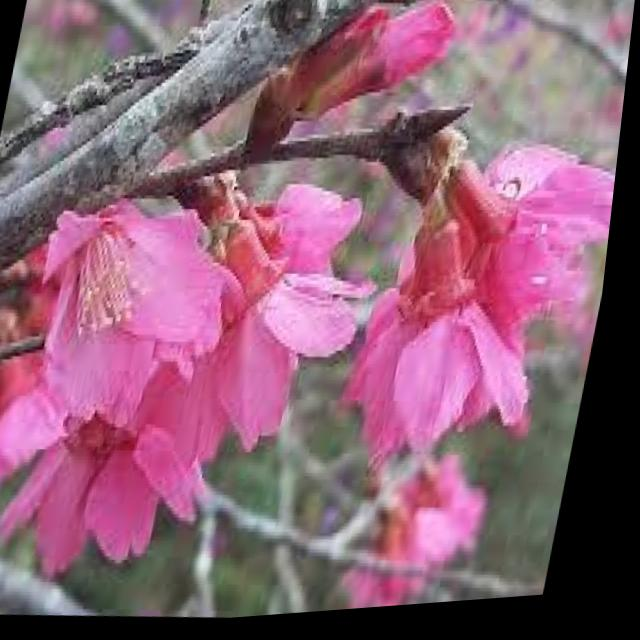Flower: (0, 218, 273, 605), (341, 167, 597, 500), (14, 121, 272, 423), (150, 166, 391, 472), (402, 106, 625, 370)
